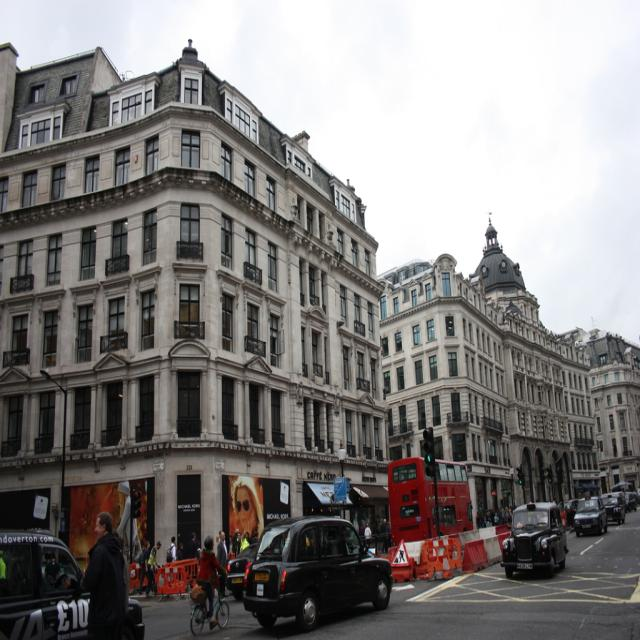car: (224, 520, 394, 634), (498, 501, 571, 574)
